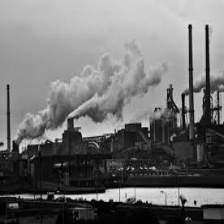smoke: (7, 52, 160, 144)
